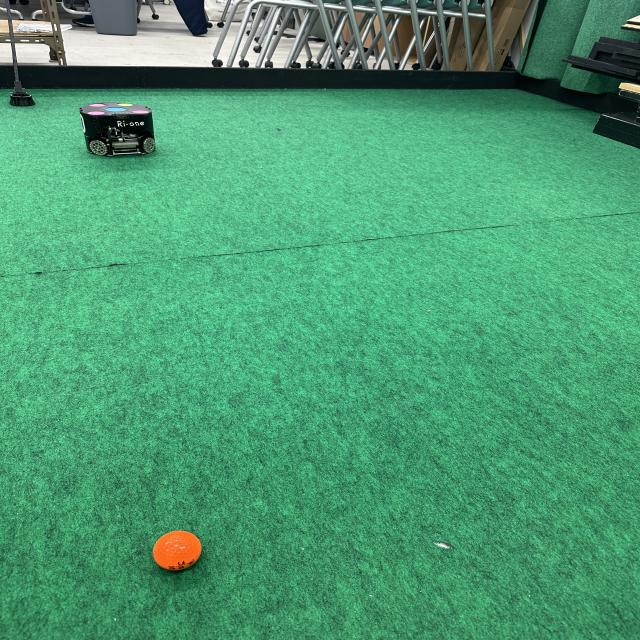ball: (151, 529, 204, 573)
